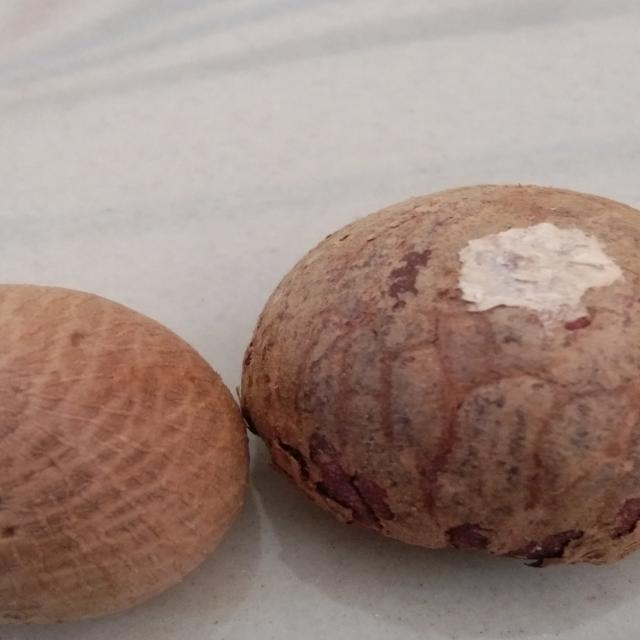good: (0, 275, 244, 624)
karigot: (264, 183, 640, 583)
